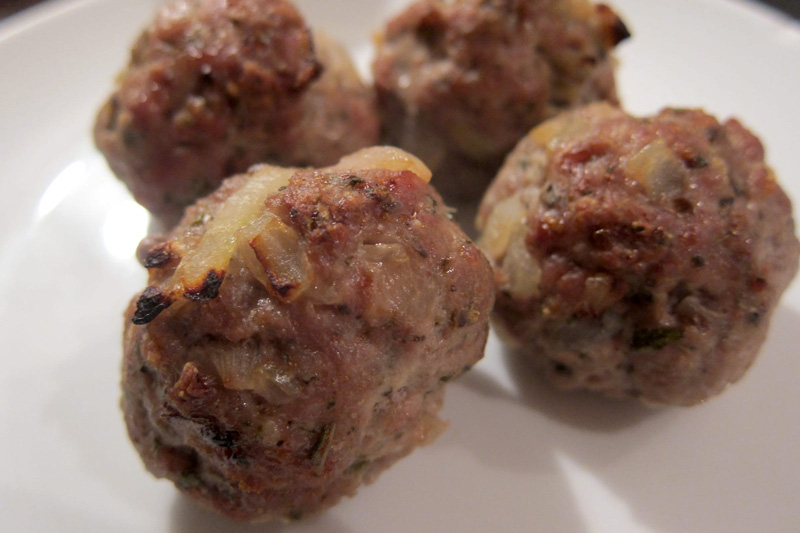meatballs: (112, 162, 460, 476), (490, 102, 788, 400), (382, 12, 626, 176), (112, 26, 306, 182)
